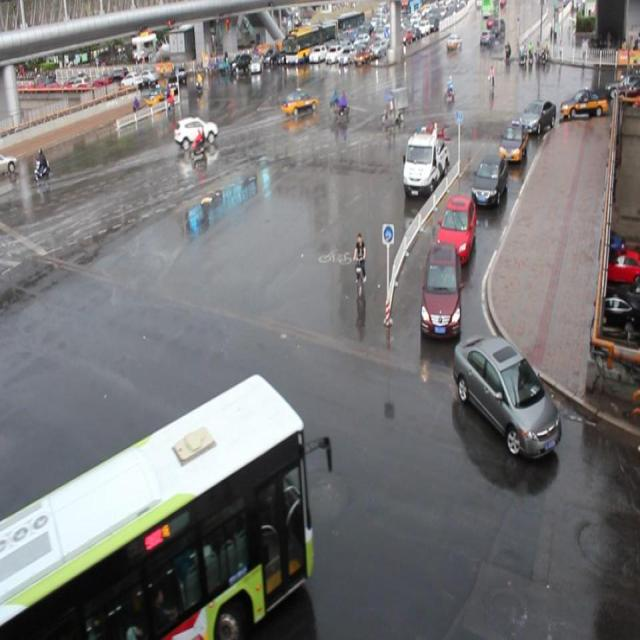bus: (401, 127, 448, 200)
car: (452, 334, 560, 453), (418, 243, 461, 338), (434, 193, 475, 263), (469, 151, 504, 205), (175, 116, 218, 148), (518, 98, 554, 136), (497, 122, 526, 164), (281, 86, 317, 117)
van: (0, 375, 310, 640)
